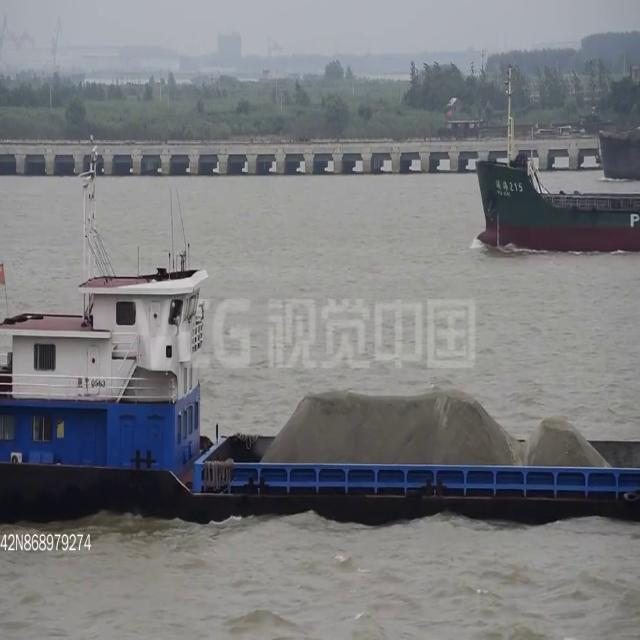cargoship: (0, 221, 628, 546)
